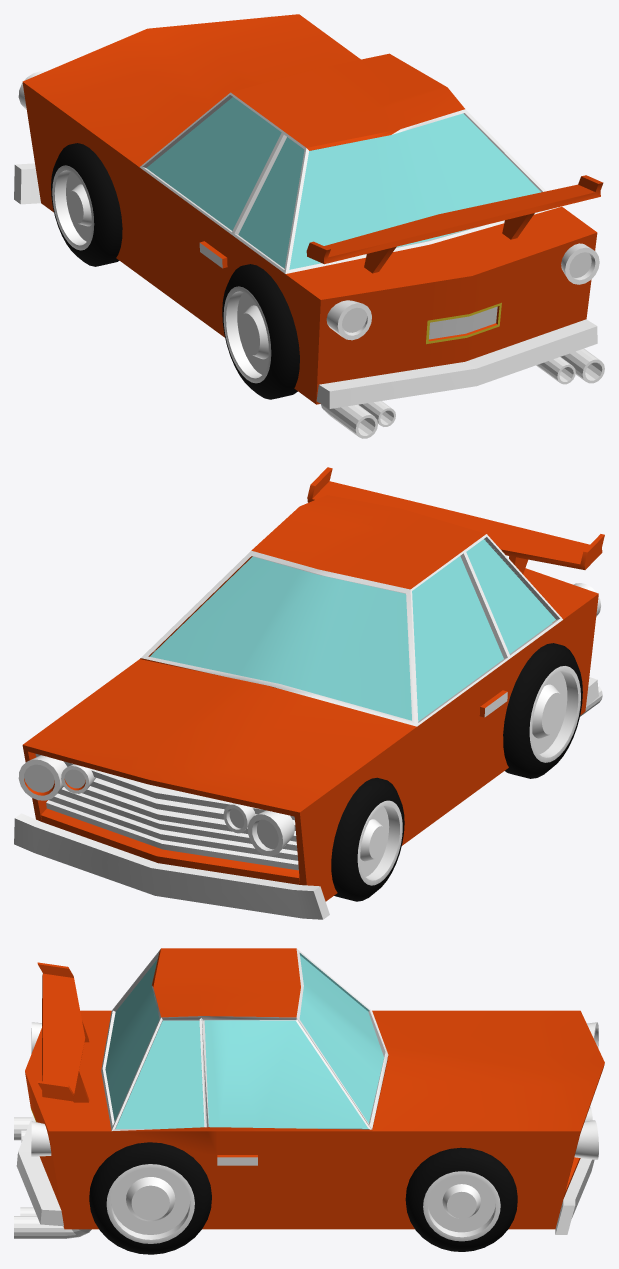
Rendered from CAR.fbx.
3 renders of one model, top to bottom at view 1: azimuth 30°, elevation 25°; view 2: azimuth 150°, elevation 25°; view 3: azimuth 270°, elevation 25°, orthographic. The views are drawn at different scales.
Visible parts, largest first — view 1: Circle.001; view 2: Circle.001; view 3: Circle.001.
Boxes of the visible parts, left/top/right/bottom form: Circle.001: left=14, top=14, right=604, bottom=438; Circle.001: left=14, top=467, right=604, bottom=919; Circle.001: left=14, top=948, right=604, bottom=1254.
Bounding box in the file's own units: 360 × 261 × 667.
